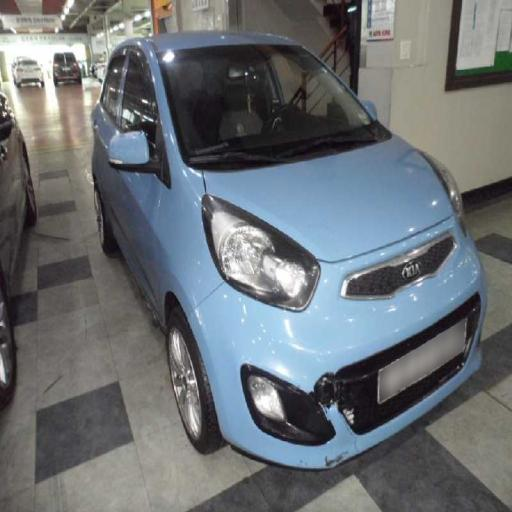scratch: (273, 326, 391, 487)
